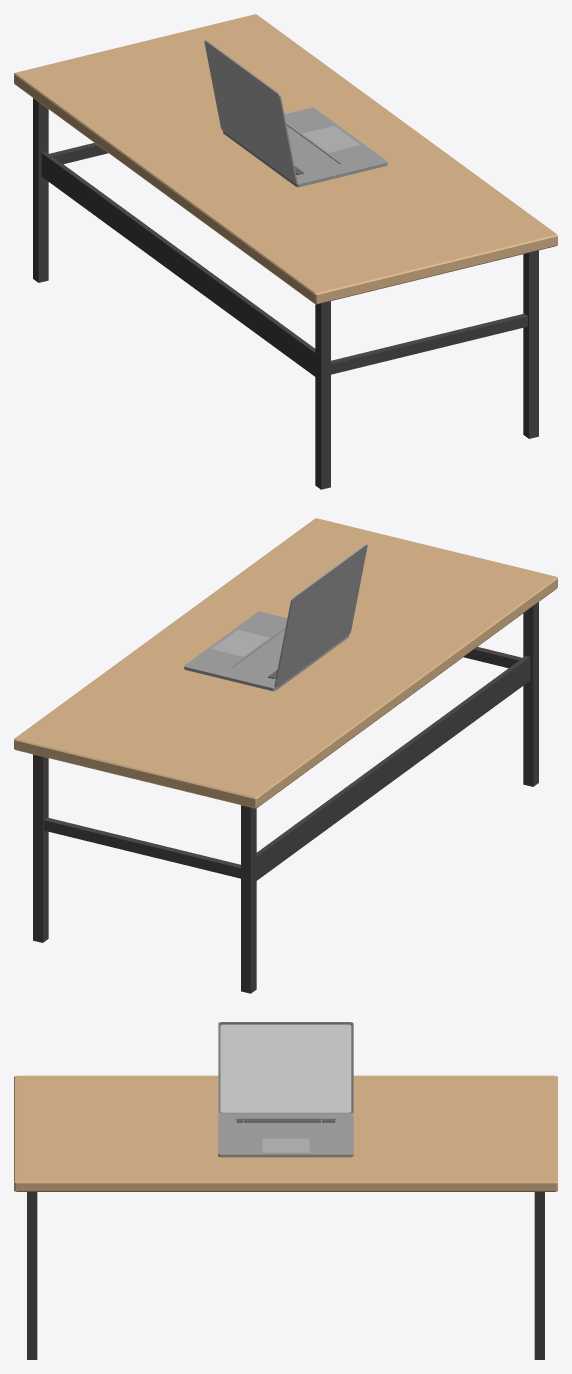
The model's file is laptop.gltf.
3 views of the same model, one above another, from view 1: azimuth 30°, elevation 25°; view 2: azimuth 150°, elevation 25°; view 3: azimuth 270°, elevation 25° (orthographic). The views are drawn at different scales.
Parts seen in each view (by area): view 1: desk_top, legs, laptop.001, touchpad; view 2: desk_top, legs, laptop.001, touchpad; view 3: desk_top, laptop.006, laptop.001, legs, touchpad.
Part boxes in pixels (x1,y1,x2,y2): desk_top: (14,14,557,304); legs: (33,98,538,489); laptop.001: (204,40,387,187); touchpad: (302,126,359,152); desk_top: (14,518,557,808); legs: (33,602,538,993); laptop.001: (184,544,367,691); touchpad: (212,630,269,656); desk_top: (14,1075,557,1191); laptop.006: (220,1024,351,1112); laptop.001: (218,1022,353,1157); legs: (27,1192,544,1359); touchpad: (262,1138,309,1152).
Bounding box in the file's own units: 0.664 × 0.7861 × 1.43.
